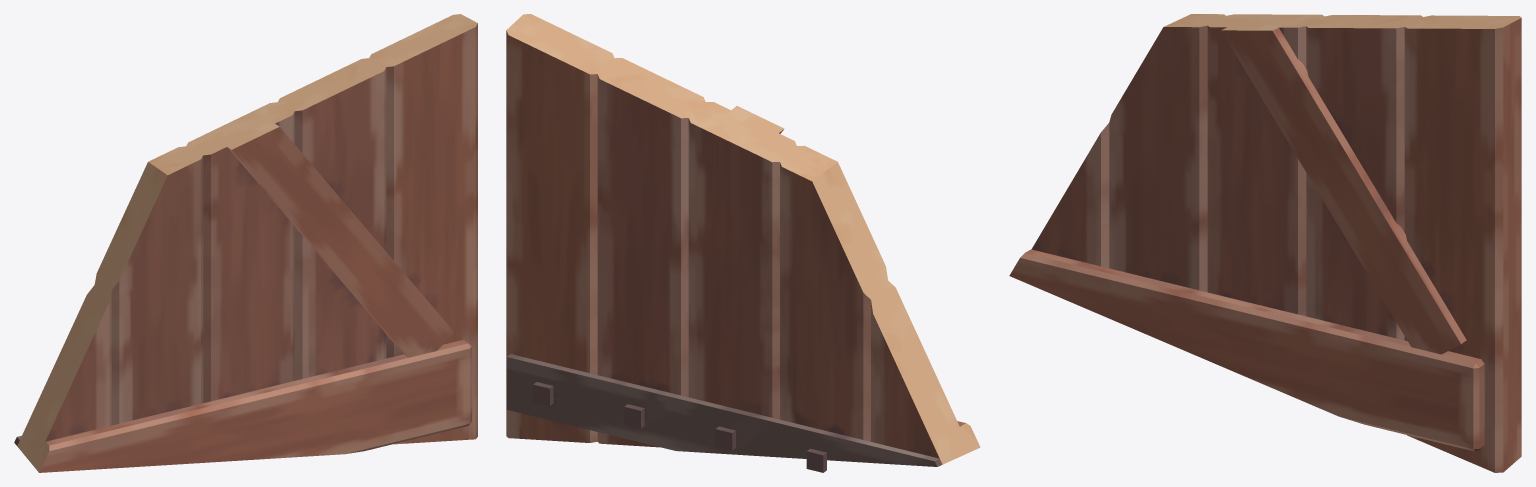
File: door_s01.fbx
3 renders of one model, left to right at view 1: azimuth 30°, elevation 25°; view 2: azimuth 150°, elevation 25°; view 3: azimuth 330°, elevation 25°, orthographic. The views are drawn at different scales.
Visible parts, largest first — view 1: door_s01; view 2: door_s01; view 3: door_s01.
Boxes of the visible parts, <box> form: door_s01: <box>14,14,477,472</box>; door_s01: <box>506,14,980,472</box>; door_s01: <box>1009,14,1521,472</box>.
Bounding box in the file's own units: 3.19 × 2.81 × 0.465.
